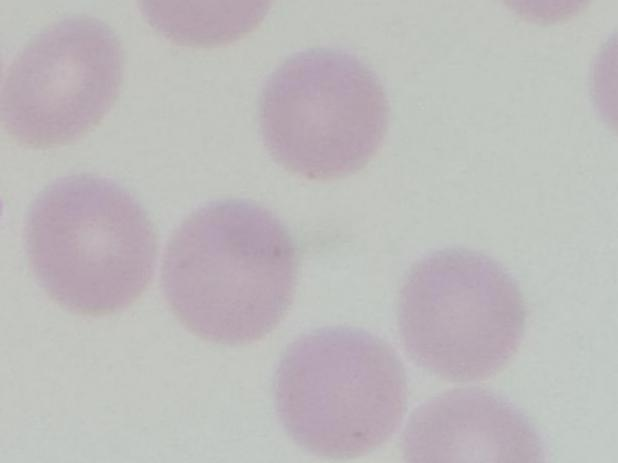Uninfected: (162, 200, 299, 340), (22, 173, 155, 315), (274, 326, 410, 458), (397, 248, 526, 379), (258, 50, 390, 178), (0, 14, 124, 144), (400, 391, 542, 460)
